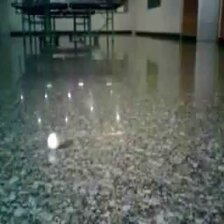w: (45, 131, 61, 150)
